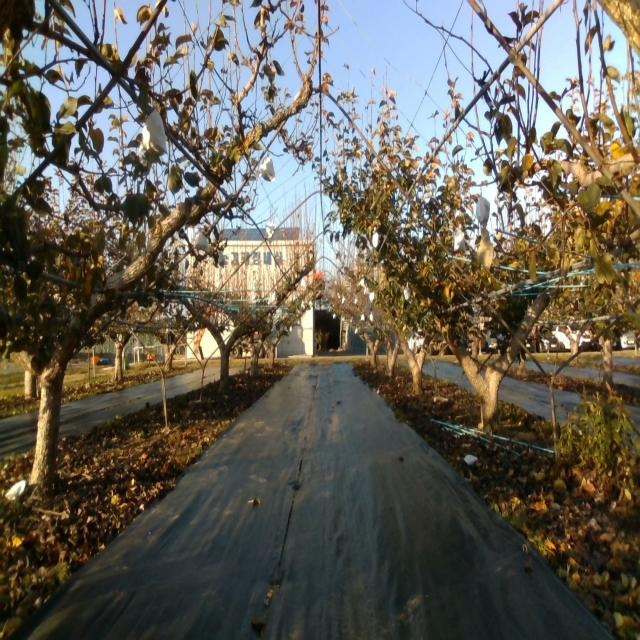pearbags: (138, 108, 170, 157), (258, 153, 276, 181), (476, 195, 490, 224), (193, 231, 210, 254), (454, 229, 466, 253), (265, 222, 277, 244)
